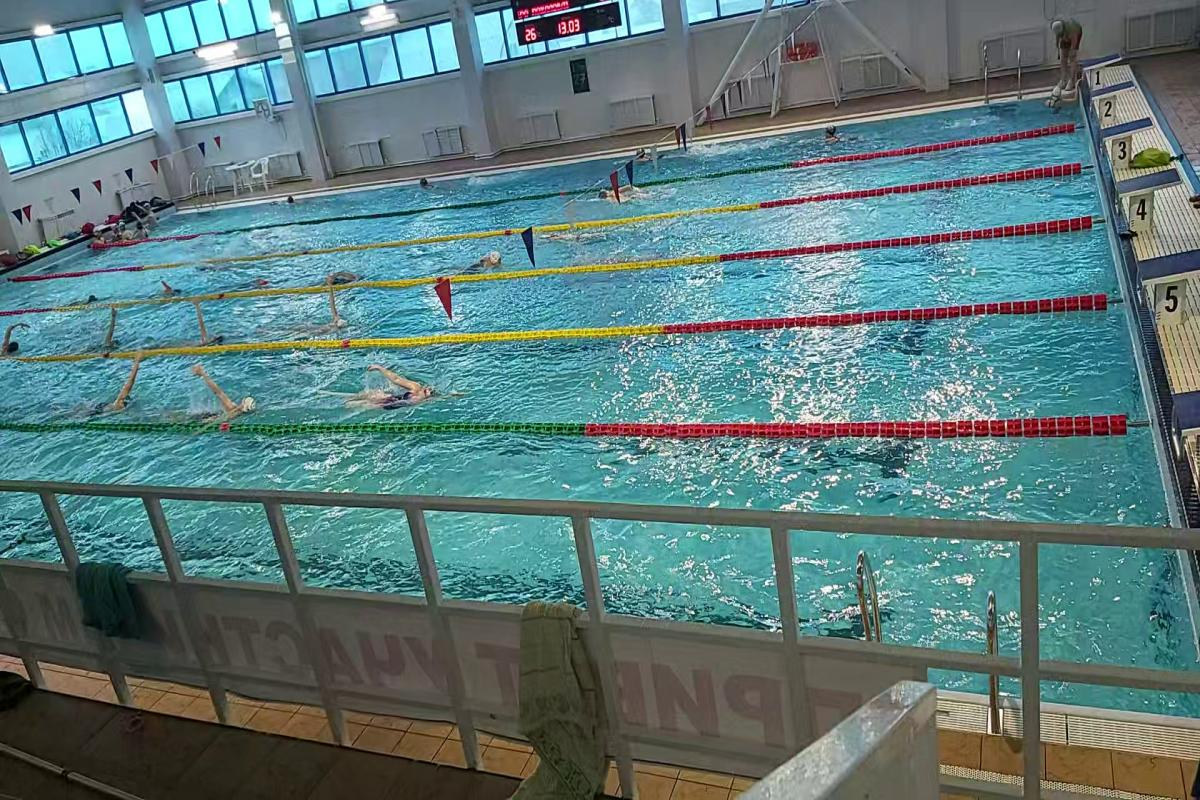swimmer: (347, 363, 459, 413), (184, 364, 259, 420), (93, 364, 143, 416), (303, 296, 356, 338), (186, 308, 234, 348), (319, 254, 372, 288), (585, 187, 661, 208), (93, 308, 128, 352), (3, 320, 32, 355), (467, 248, 522, 265), (150, 277, 188, 298)
